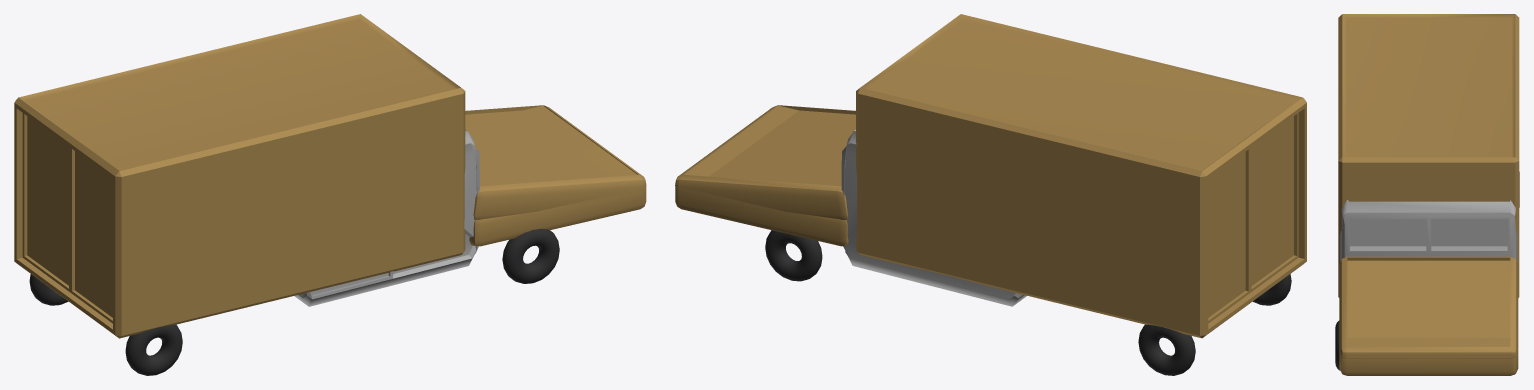
Rendered from lowpolytruck.fbx.
The picture shows the model from 3 angles, left to right: view 1: azimuth 30°, elevation 25°; view 2: azimuth 150°, elevation 25°; view 3: azimuth 270°, elevation 25°; orthographic projection. The views are drawn at different scales.
Visible parts, largest first — view 1: pCube8; view 2: pCube8; view 3: pCube8.
Boxes of the visible parts, left/top/right/bottom form: pCube8: left=14, top=14, right=646, bottom=375; pCube8: left=675, top=14, right=1306, bottom=375; pCube8: left=1335, top=14, right=1519, bottom=375.
Size of the model in its own units: 1417 by 544 by 494.
